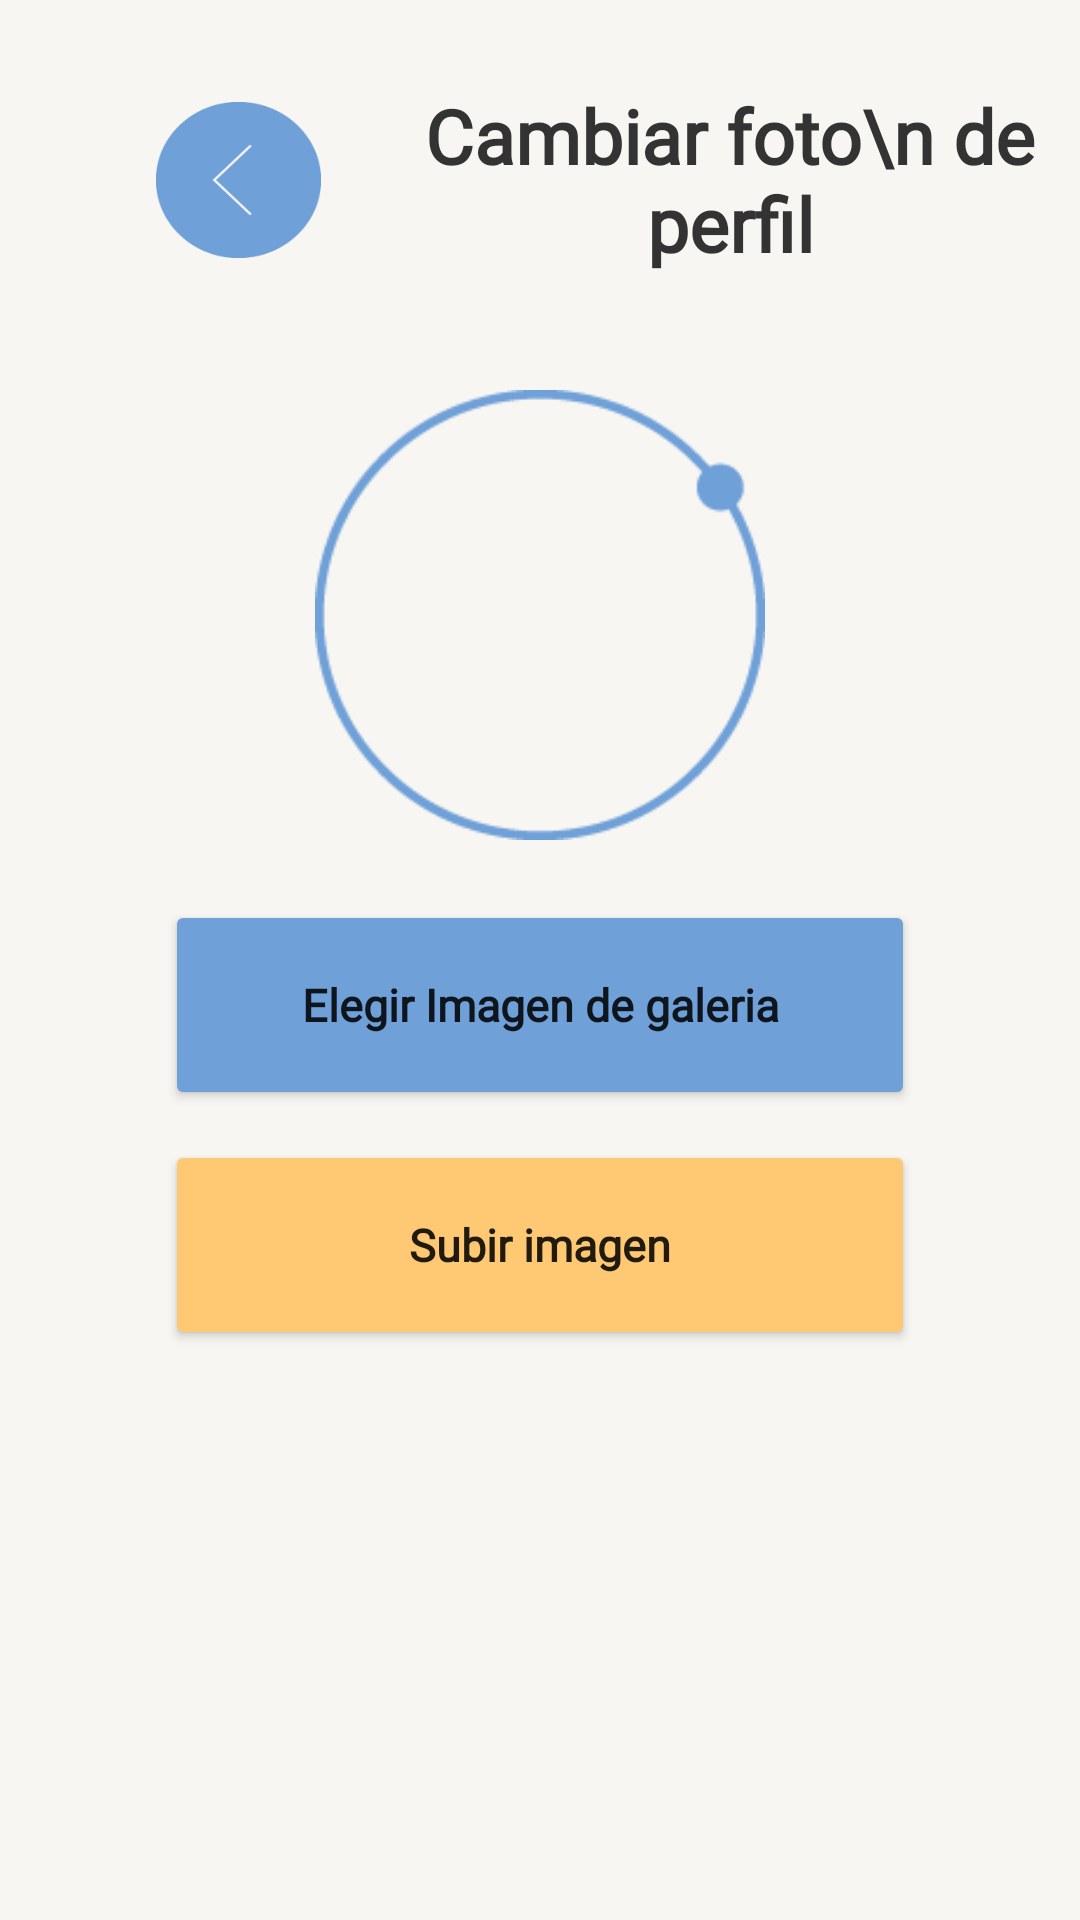

Screen size 1080 × 1920. Icon name, then its box in pixels as (x1, y1, x2, y2):
regresar xxxdpi: (156, 102, 321, 258)
